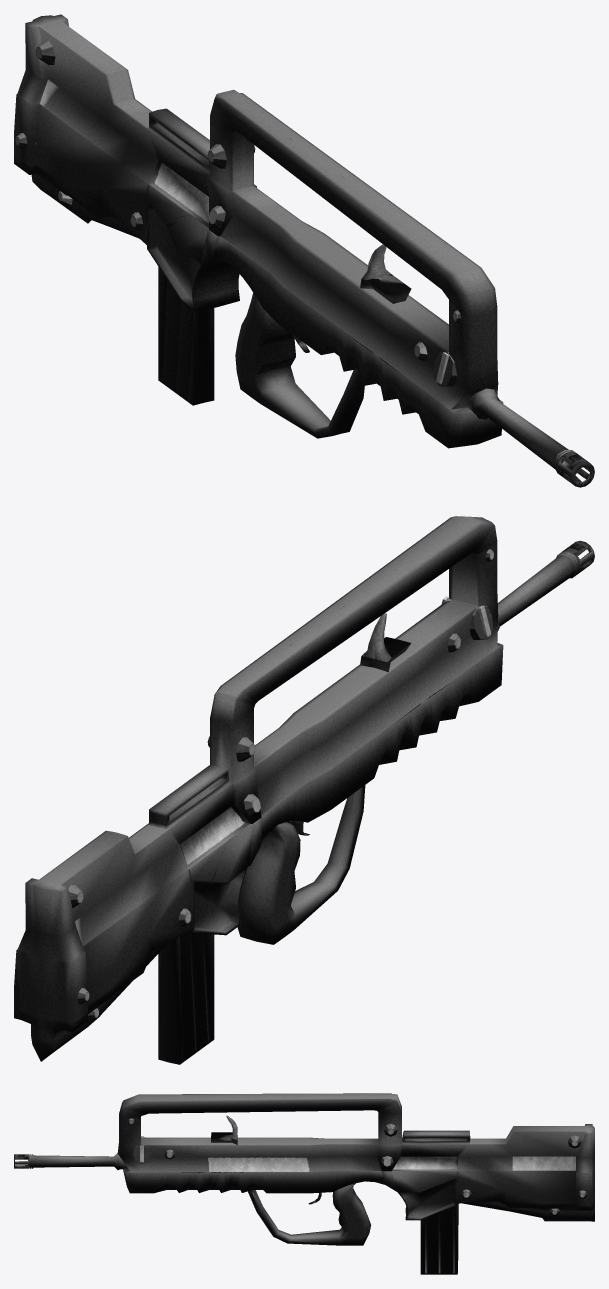
The model's file is item_gun.fbx.
3 views of the same model, one above another, from view 1: azimuth 30°, elevation 25°; view 2: azimuth 150°, elevation 25°; view 3: azimuth 270°, elevation 25° (orthographic). The views are drawn at different scales.
Visible parts, largest first — view 1: Base; view 2: Base; view 3: Base.
Part boxes in pixels (x1,y1,x2,y2): Base: [14, 14, 594, 487]; Base: [14, 516, 594, 1064]; Base: [14, 1093, 594, 1274].
Size of the model in its own units: 27.19 by 121 by 361.
1 material, 1 textured.
